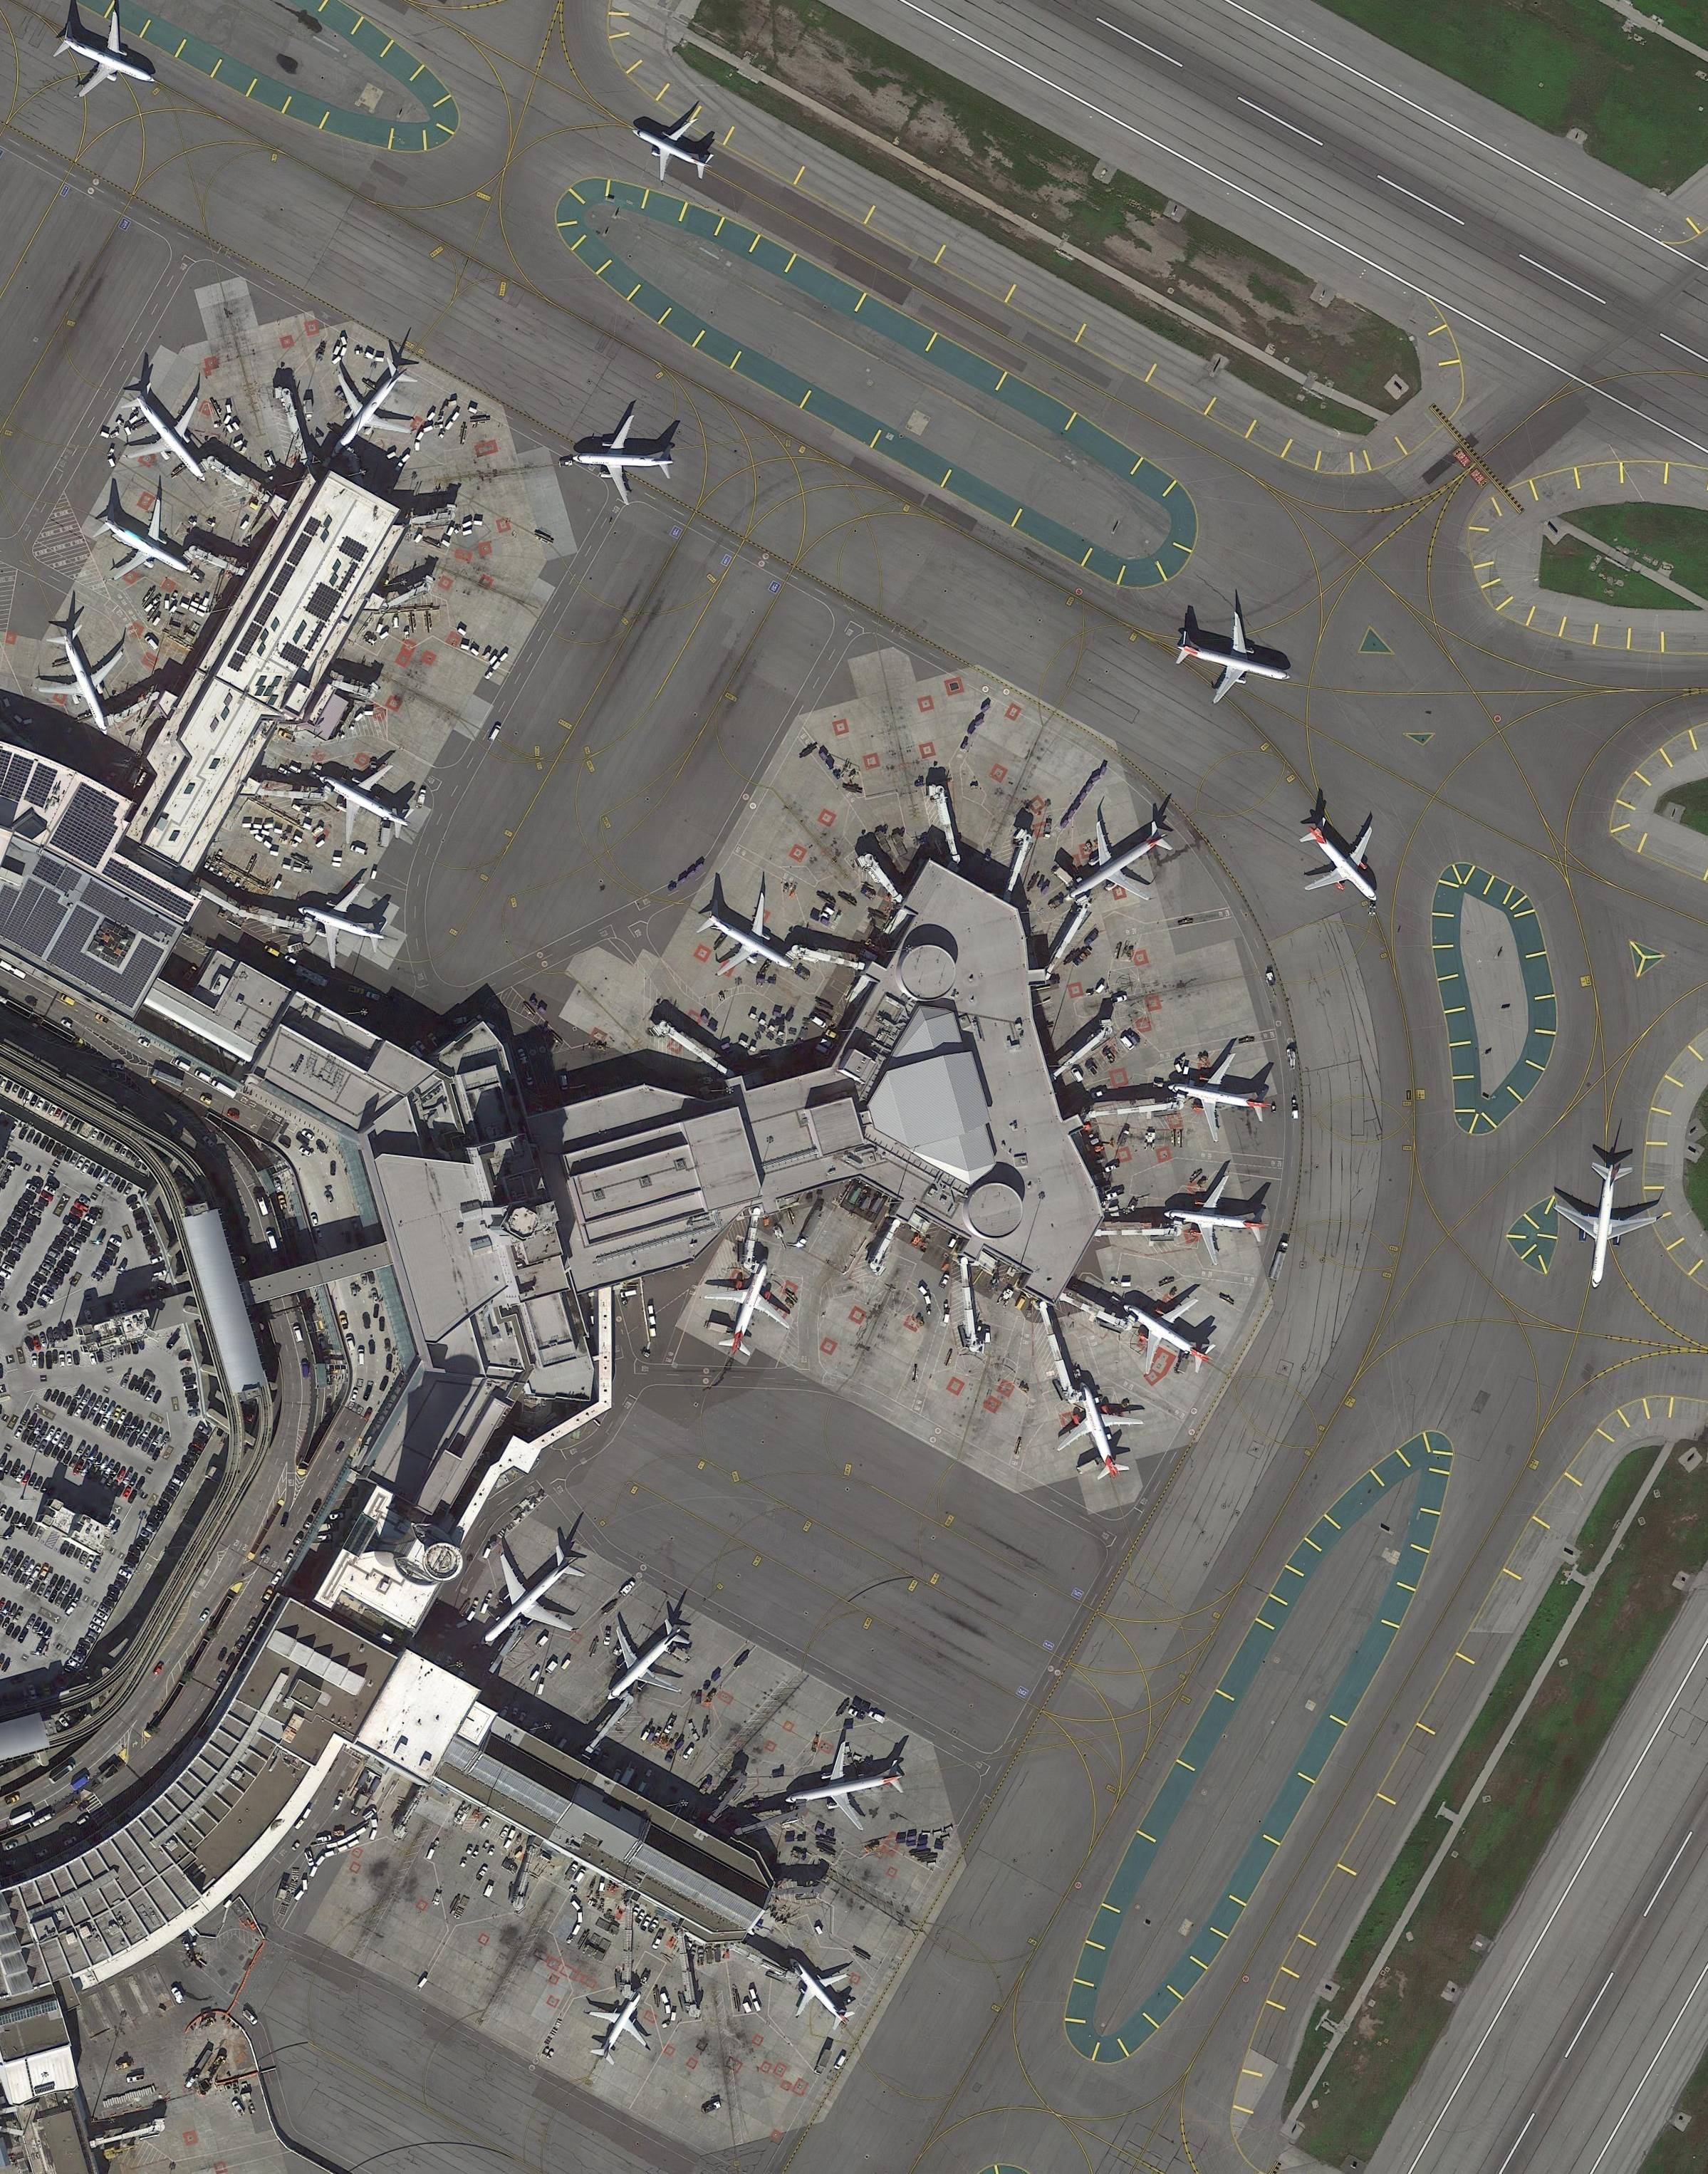plane: (443, 1518, 612, 1682), (289, 334, 441, 491), (1039, 787, 1198, 935), (95, 362, 240, 508), (12, 609, 154, 753), (1540, 1147, 1671, 1301), (572, 1592, 713, 1731), (1272, 796, 1412, 930), (1097, 1265, 1239, 1398), (679, 873, 817, 1006), (76, 476, 215, 607), (1165, 596, 1299, 723), (296, 741, 432, 865), (773, 1726, 912, 1842), (41, 4, 173, 124), (688, 1242, 808, 1368), (1039, 1368, 1157, 1493), (281, 865, 402, 983), (1157, 1039, 1281, 1151), (1154, 1165, 1276, 1274), (616, 90, 732, 199), (762, 1941, 872, 2047), (568, 1973, 669, 2077), (572, 411, 678, 508)
